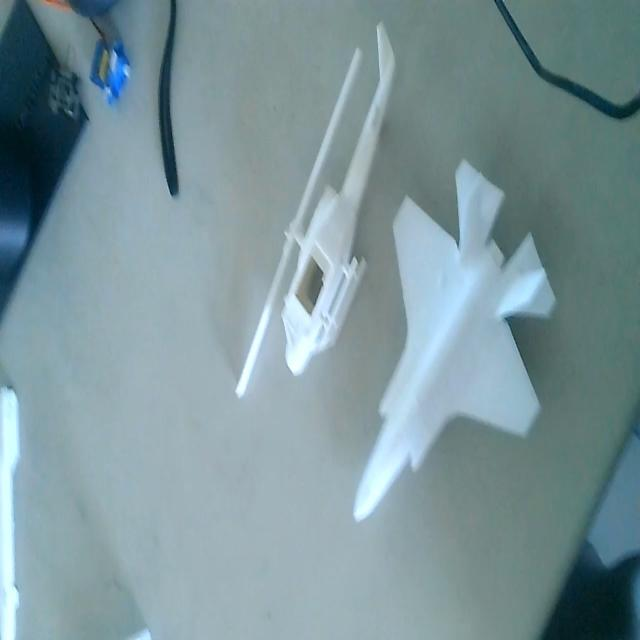Helicopter: (235, 19, 393, 400)
Jet: (355, 158, 561, 531)
